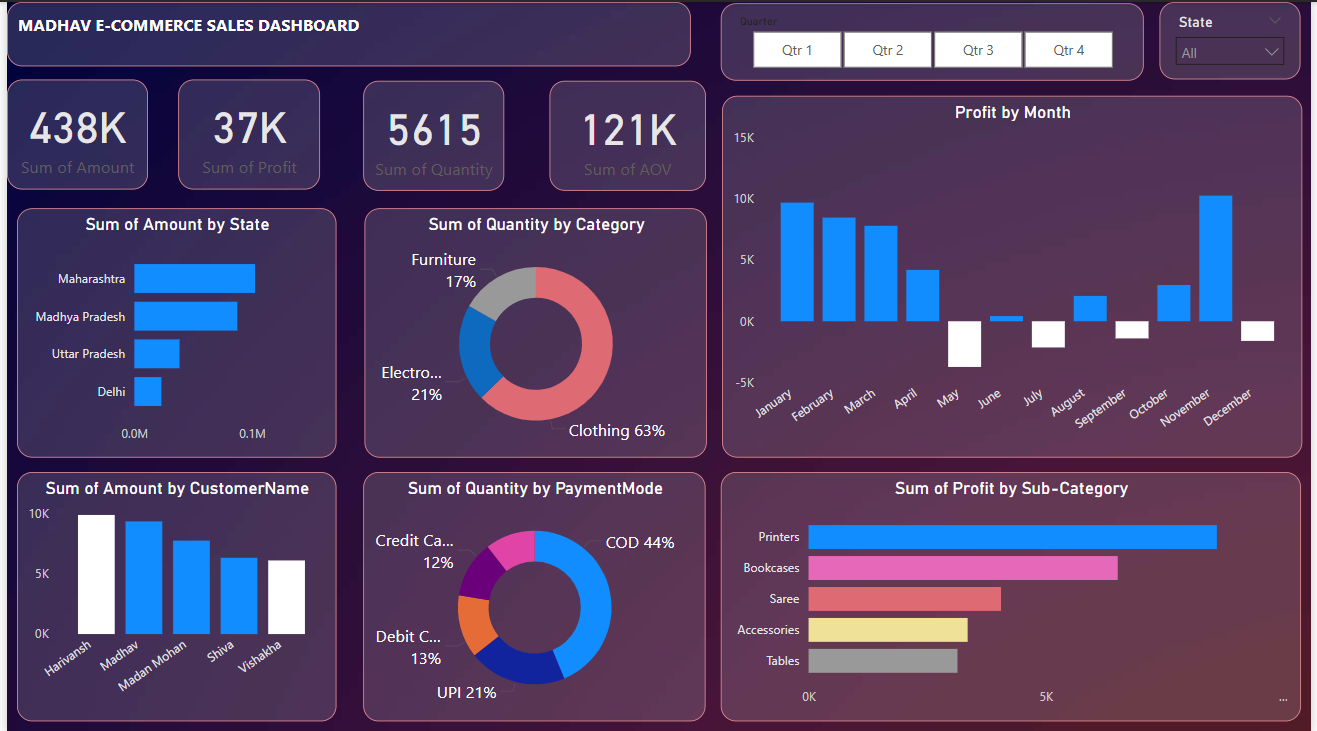

The page's visual inventory and layout, read from the dashboard file:
{"tool":"powerbi","page":{"name":"Page 1","canvas":[1280,720],"ordinal":0},"visuals":[{"type":"textbox","box":[0,0,671.2,63.4],"z":0},{"type":"columnChart","title":"Profit by Month","fields":{"Category":["Orders.Order Date.Variation.Date Hierarchy.Month"],"Y":["Details.Profit"]},"box":[701.7,92.6,569.7,355.3],"z":1000},{"type":"barChart","fields":{"Category":["Details.Sub-Category"],"Y":["Details.Profit"]},"box":[700.4,461.9,569.7,244.9],"z":2000},{"type":"donutChart","fields":{"Category":["Details.Category"],"Y":["Details.Quantity"]},"box":[351.5,203,336.2,244.9],"z":3000},{"type":"donutChart","fields":{"Category":["Details.PaymentMode"],"Y":["Details.Quantity"]},"box":[350.2,461.9,336.2,244.9],"z":4000},{"type":"card","fields":{"Values":["Details.Amount"]},"box":[0,76.1,138.3,107.9],"z":4001},{"type":"card","fields":{"Values":["Details.Quantity"]},"box":[350.2,77.4,138.3,107.9],"z":4002},{"type":"card","fields":{"Values":["Details.Profit"]},"box":[167.5,76.1,139.6,107.9],"z":4003},{"type":"card","fields":{"Values":["Details.AOV"]},"box":[532.9,77.4,153.5,107.9],"z":4004},{"type":"barChart","fields":{"Category":["Orders.State"],"Y":["Details.Amount"]},"box":[10.2,203,313.4,244.9],"z":4005},{"type":"columnChart","fields":{"Category":["Orders.CustomerName"],"Y":["Details.Amount"]},"box":[10.2,461.9,313.4,244.9],"z":4006},{"type":"slicer","fields":{"Values":["Orders.Order Date.Variation.Date Hierarchy.Quarter"]},"box":[700.4,1.3,414.9,76.1],"z":4007},{"type":"slicer","fields":{"Values":["Orders.State"]},"box":[1131.8,0,138.3,76.1],"z":4008}]}

Visuals, with their boxes in screenshot pixels (x1, y1, x2, y2), scaled from the page's 1280x720 canvas onto the 1317x731 screenshot:
textbox: bbox(0, 0, 691, 64)
"Profit by Month" columnChart: bbox(722, 94, 1308, 455)
barChart - Details.Sub-Category x Details.Profit: bbox(721, 469, 1307, 718)
donutChart - Details.Category x Details.Quantity: bbox(362, 206, 708, 455)
donutChart - Details.PaymentMode x Details.Quantity: bbox(360, 469, 706, 718)
card - Details.Amount: bbox(0, 77, 142, 187)
card - Details.Quantity: bbox(360, 79, 503, 188)
card - Details.Profit: bbox(172, 77, 316, 187)
card - Details.AOV: bbox(548, 79, 706, 188)
barChart - Orders.State x Details.Amount: bbox(10, 206, 333, 455)
columnChart - Orders.CustomerName x Details.Amount: bbox(10, 469, 333, 718)
slicer - Orders.Order Date.Variation.Date Hierarchy.Quarter: bbox(721, 1, 1148, 79)
slicer - Orders.State: bbox(1165, 0, 1307, 77)
